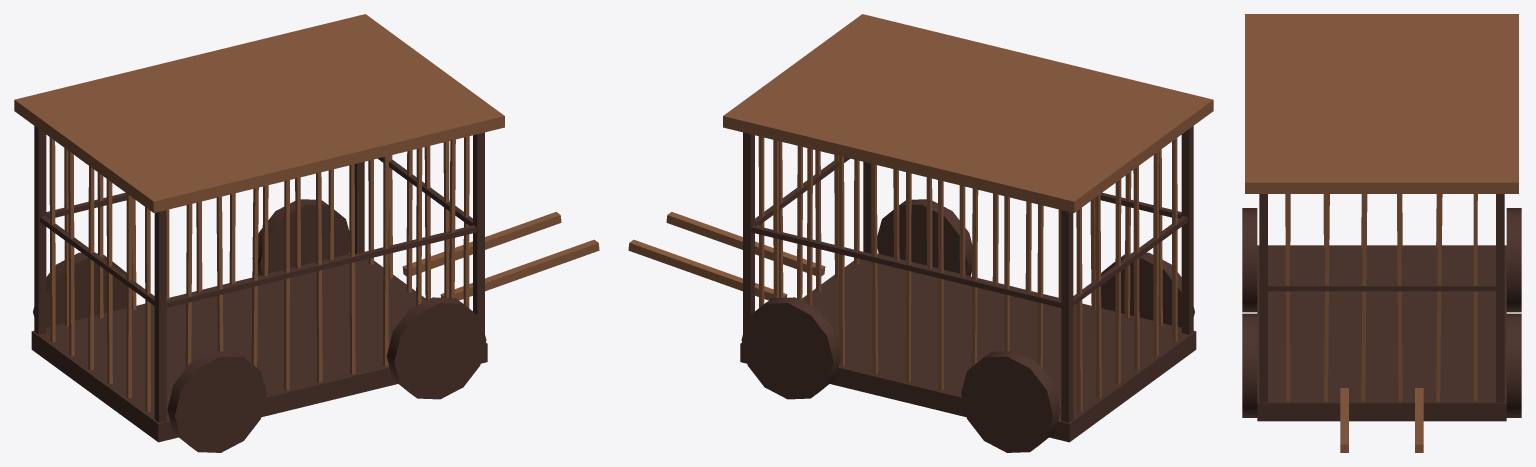
File: cage_cart.glb
The picture shows the model from 3 angles, left to right: view 1: azimuth 30°, elevation 25°; view 2: azimuth 150°, elevation 25°; view 3: azimuth 270°, elevation 25°; orthographic projection.
Visible parts, largest first — view 1: bed; view 2: bed; view 3: bed.
Boxes of the visible parts, x1,y1,x2,y2 form: bed: (14,14,599,452); bed: (628,14,1213,452); bed: (1242,14,1521,452).
Bounding box in the file's own units: 4.5 × 2.32 × 2.24.
